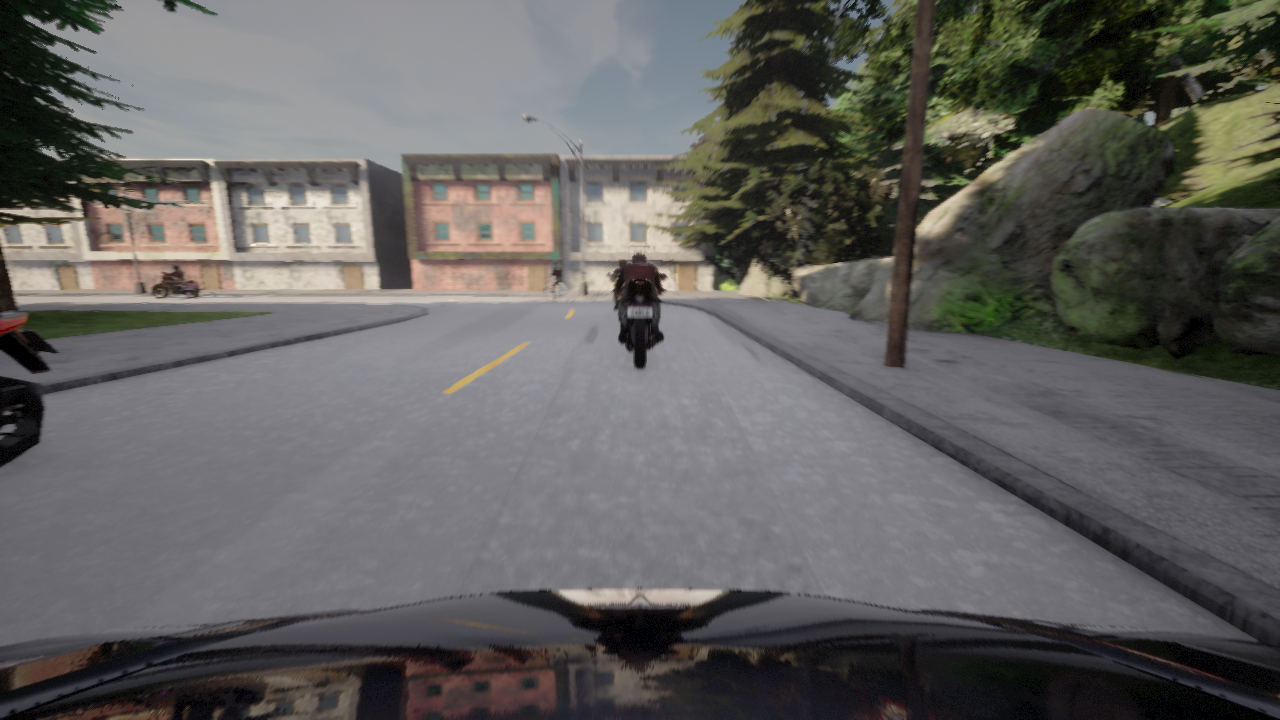cyclist: (0, 588, 1279, 719), (0, 309, 60, 466), (611, 274, 666, 367), (152, 275, 200, 297), (545, 277, 567, 302), (607, 273, 621, 308)
